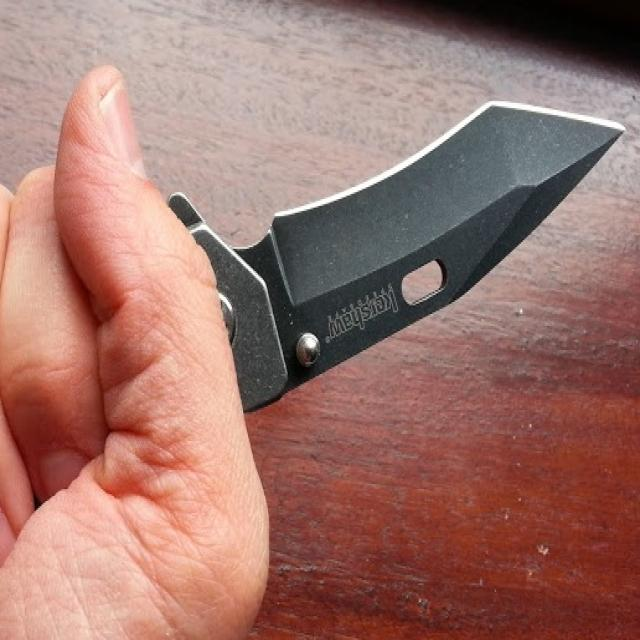knife: (200, 98, 627, 398)
